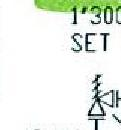psv: (87, 73, 118, 119)
